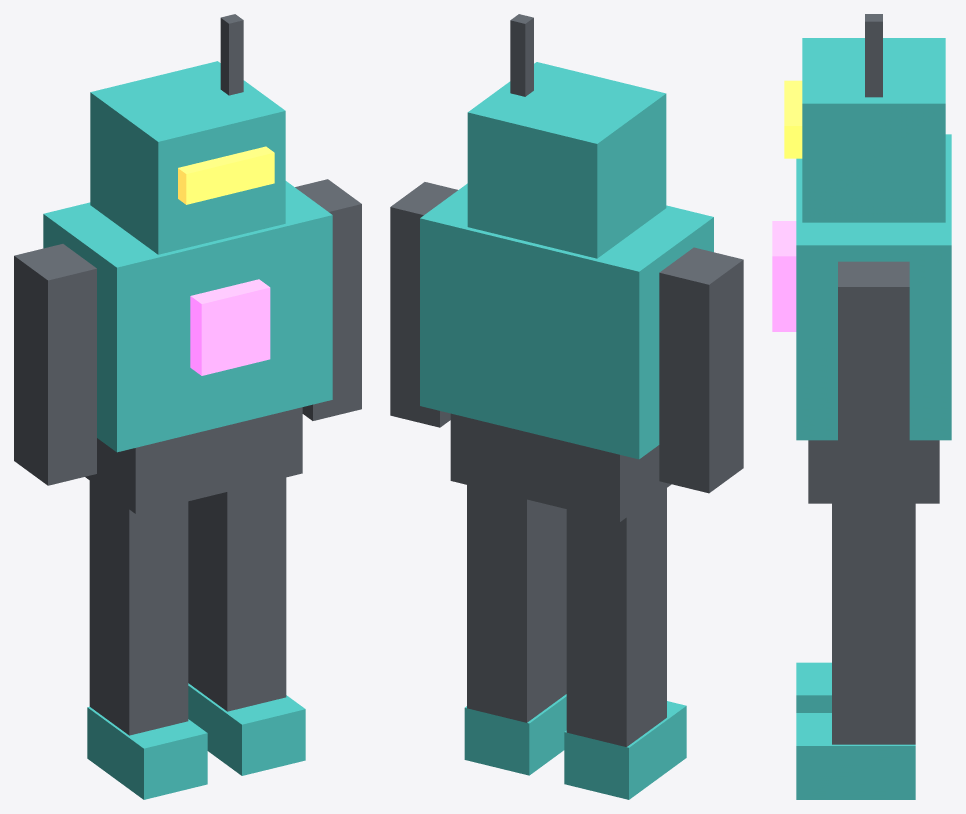
Rendered from chroma-combat-bot.gltf.
3 views of the same model, side by side, from view 1: azimuth 30°, elevation 25°; view 2: azimuth 150°, elevation 25°; view 3: azimuth 270°, elevation 25° (orthographic). The views are drawn at different scales.
Parts seen in each view (by area): view 1: Torso, Head, LegRight, LegLeft, ArmRight, Pelvis, ArmLeft, FootRight, FootLeft, ChestCore, Visor, AntennaLeft; view 2: Torso, Head, LegRight, LegLeft, ArmRight, Pelvis, ArmLeft, FootRight, FootLeft, AntennaLeft; view 3: Head, Torso, LegLeft, ArmLeft, FootLeft, Pelvis, ChestCore, FootRight, AntennaLeft, Visor.
Boxes of the visible parts, x1,y1,x2,y2 form: Torso: (43, 181, 332, 452); Head: (90, 61, 285, 254); LegRight: (89, 481, 188, 735); LegLeft: (188, 477, 286, 711); ArmRight: (14, 244, 96, 485); Pelvis: (85, 407, 302, 513); ArmLeft: (295, 179, 361, 420); FootRight: (87, 706, 207, 799); FootLeft: (188, 683, 305, 775); ChestCore: (190, 279, 270, 375); Visor: (178, 146, 274, 204); AntennaLeft: (220, 14, 243, 95); Torso: (420, 183, 713, 459); Head: (467, 62, 666, 258); LegRight: (566, 488, 666, 746); LegLeft: (467, 485, 566, 722); ArmRight: (659, 247, 743, 493); Pelvis: (450, 413, 671, 521); ArmLeft: (390, 182, 457, 427); FootRight: (564, 701, 686, 799); FootLeft: (464, 694, 566, 775); AntennaLeft: (510, 14, 533, 96); Head: (802, 38, 945, 222); Torso: (796, 134, 951, 440); LegLeft: (832, 503, 915, 744); ArmLeft: (838, 261, 909, 503); FootLeft: (796, 713, 915, 799); Pelvis: (808, 440, 939, 503); ChestCore: (772, 221, 796, 331); FootRight: (796, 662, 831, 712); AntennaLeft: (865, 14, 882, 97); Visor: (784, 80, 802, 158).
Bounding box in the file's own units: 0.64 × 1.41 × 0.3.
